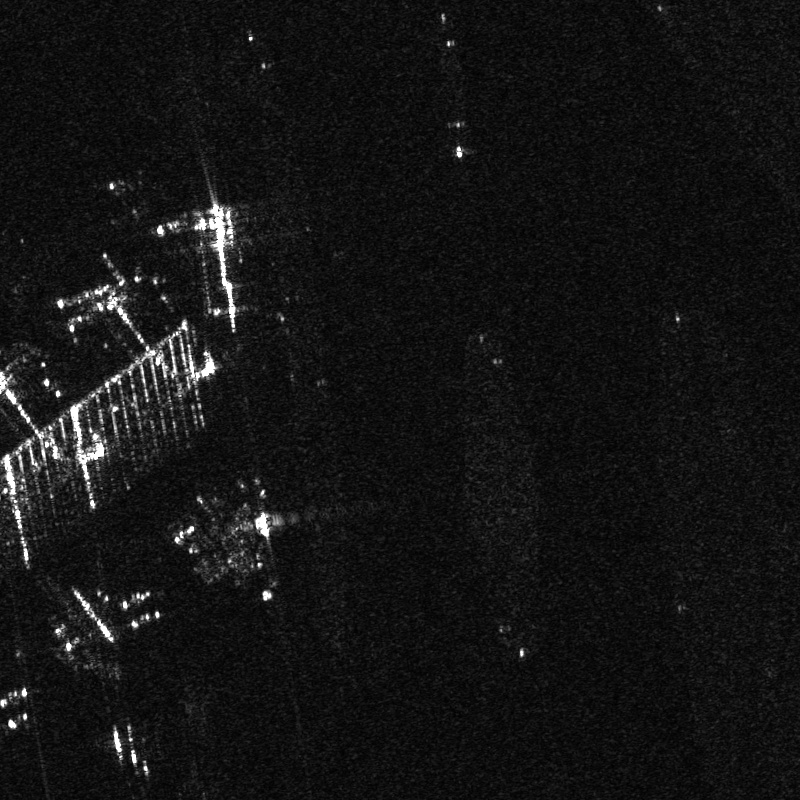A220: (108, 178, 161, 222)
